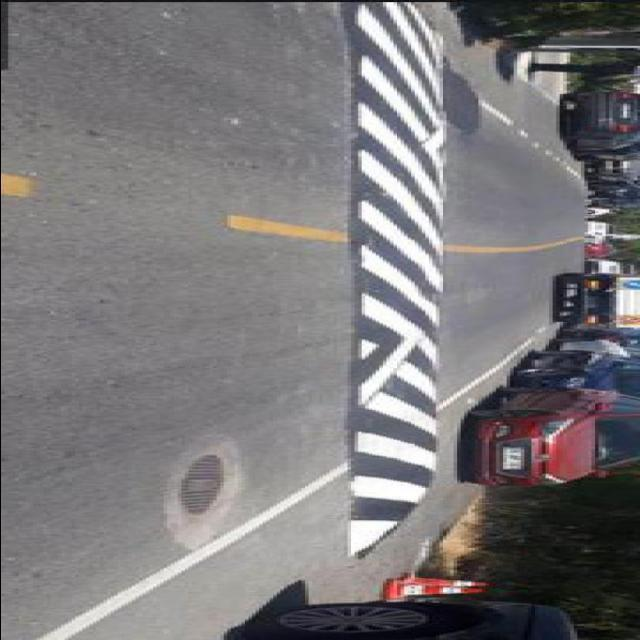speedbreaker: (337, 0, 451, 562)
